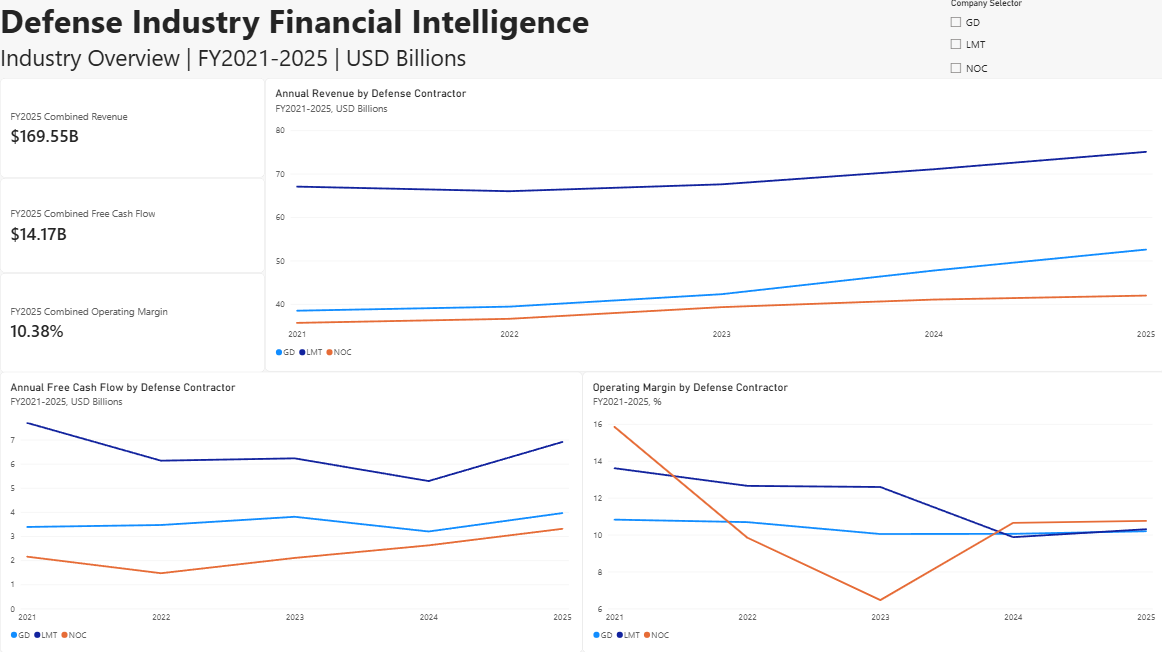

The page's visual inventory and layout, read from the dashboard file:
{"tool":"powerbi","page":{"name":"Industry Overview","canvas":[1920,1080],"ordinal":0},"visuals":[{"type":"lineChart","title":"Annual Revenue by Defense Contractor","fields":{"Category":["HistoricalFinancials.year"],"Series":["HistoricalFinancials.ticker"],"Y":["Sum(HistoricalFinancials.revenue)"]},"box":[436.2,132.6,1483.8,483.2],"z":0},{"type":"cardVisual","title":"FY2025 Combined Revenue","fields":{"Data":["Sum(HistoricalFinancials.revenue)"]},"box":[0,132.6,436.2,164.6],"z":1},{"type":"cardVisual","title":"FY2025 Combined Free Cash Flow","fields":{"Data":["Sum(HistoricalFinancials.free_cash_flow)"]},"box":[0,297.2,436.2,156.1],"z":2},{"type":"cardVisual","fields":{"Data":["HistoricalFinancials.Combined Operating Margin %"]},"box":[0,453.3,436.2,164.6],"z":3},{"type":"slicer","fields":{"Values":["HistoricalFinancials.ticker"]},"box":[1558.7,0,361.3,132.6],"z":4},{"type":"lineChart","title":"Operating Margin by Defense Contractor","fields":{"Category":["HistoricalFinancials.year"],"Series":["HistoricalFinancials.ticker"],"Y":["Avg(HistoricalFinancials.operating_margin_pct)"]},"box":[959.2,615.4,961.2,465.2],"z":5},{"type":"lineChart","title":"Annual Free Cash Flow by Defense Contractor","fields":{"Category":["HistoricalFinancials.year"],"Series":["HistoricalFinancials.ticker"],"Y":["Sum(HistoricalFinancials.free_cash_flow)"]},"box":[0,615.4,959.2,465.2],"z":6},{"type":"textbox","box":[0,0,1368.4,132.6],"z":7}]}

Visuals, with their boxes in screenshot pixels (x1, y1, x2, y2), scaled from the page's 1920x1080 canvas onto the 1162x652 screenshot:
"Annual Revenue by Defense Contractor" lineChart: (264,80,1161,372)
"FY2025 Combined Revenue" cardVisual: (0,80,264,179)
"FY2025 Combined Free Cash Flow" cardVisual: (0,179,264,274)
cardVisual - HistoricalFinancials.Combined Operating Margin %: (0,274,264,373)
slicer - HistoricalFinancials.ticker: (943,0,1161,80)
"Operating Margin by Defense Contractor" lineChart: (581,372,1161,651)
"Annual Free Cash Flow by Defense Contractor" lineChart: (0,372,581,651)
textbox: (0,0,828,80)
